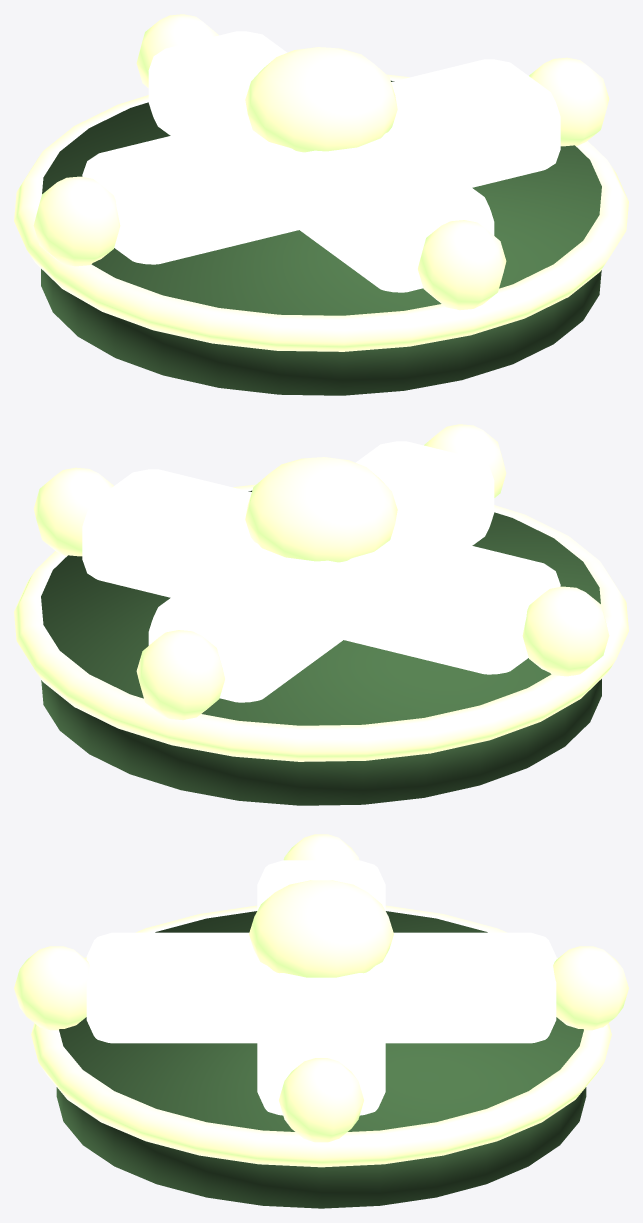
File: medic.glb
The picture shows the model from 3 angles, top to bottom: view 1: azimuth 30°, elevation 25°; view 2: azimuth 150°, elevation 25°; view 3: azimuth 270°, elevation 25°; orthographic projection. The views are drawn at different scales.
Parts seen in each view (by area): view 1: disc, cross_b, cross_a, rim, core, tip.002, tip.003, tip.001, tip; view 2: disc, cross_b, cross_a, rim, core, tip, tip.003, tip.001, tip.002; view 3: disc, cross_a, rim, cross_b, core, tip.001, tip, tip.002, tip.003.
Boxes of the visible parts, x1=… form: disc: x1=41, y1=80, x2=601, y2=395; cross_b: x1=82, y1=59, x2=560, y2=264; cross_a: x1=148, y1=31, x2=494, y2=292; rim: x1=14, y1=74, x2=628, y2=351; core: x1=245, y1=47, x2=397, y2=152; tip.002: x1=418, y1=220, x2=506, y2=310; tip.003: x1=33, y1=176, x2=120, y2=266; tip.001: x1=529, y1=57, x2=609, y2=146; tip: x1=136, y1=14, x2=218, y2=87; disc: x1=41, y1=490, x2=601, y2=805; cross_b: x1=82, y1=469, x2=560, y2=674; cross_a: x1=148, y1=441, x2=494, y2=702; rim: x1=14, y1=484, x2=628, y2=761; core: x1=245, y1=457, x2=397, y2=562; tip: x1=136, y1=630, x2=224, y2=720; tip.003: x1=522, y1=586, x2=609, y2=676; tip.001: x1=33, y1=467, x2=113, y2=556; tip.002: x1=424, y1=424, x2=506, y2=497; disc: x1=56, y1=911, x2=586, y2=1208; cross_a: x1=86, y1=932, x2=556, y2=1043; rim: x1=31, y1=905, x2=611, y2=1167; cross_b: x1=257, y1=860, x2=385, y2=1115; core: x1=249, y1=880, x2=393, y2=977; tip.001: x1=279, y1=1058, x2=363, y2=1142; tip: x1=553, y1=946, x2=628, y2=1030; tip.002: x1=14, y1=946, x2=89, y2=1030; tip.003: x1=283, y1=834, x2=359, y2=860.
Size of the model in its own units: 1.43 by 0.709 by 1.44.
